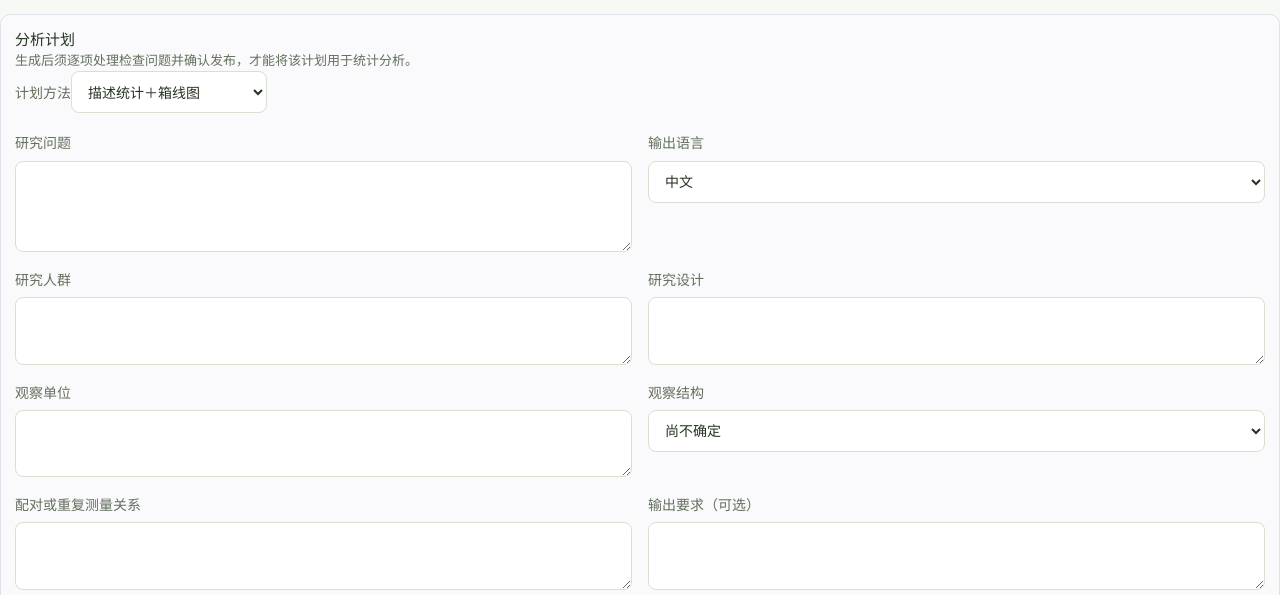
same-looking numeric and textual groups remain separately identifiable in the local selector
Select "Welch t" in the dropdown labelled "计划方法". click: [169, 92]
box: [71,71,267,113]
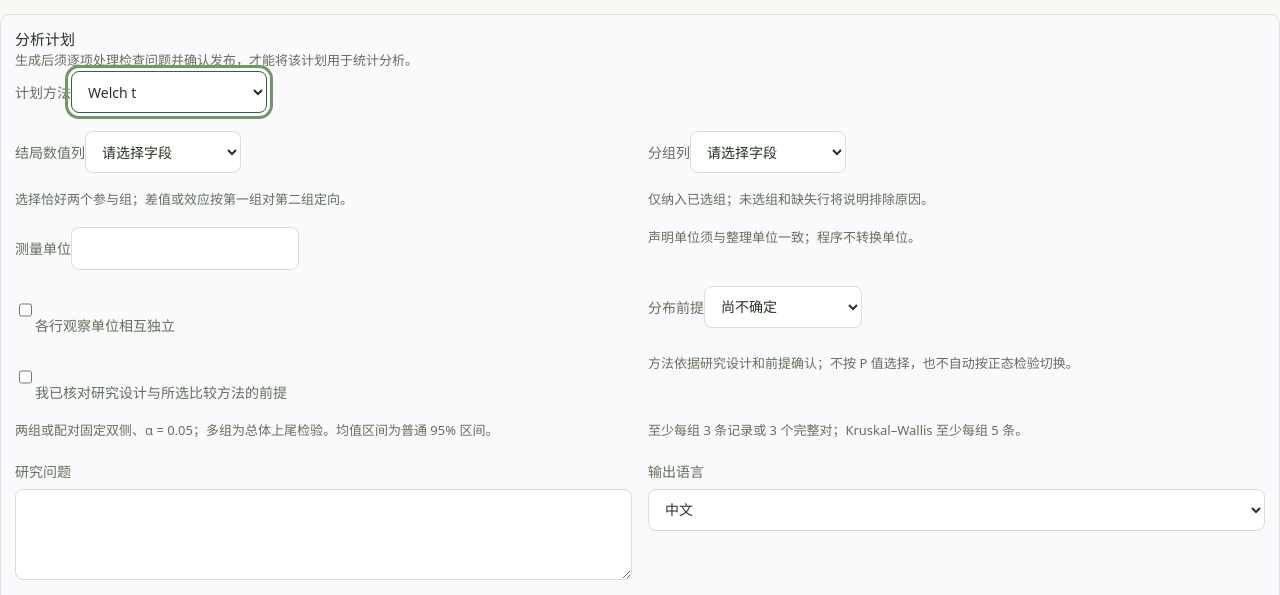
Select "C · Outcome" in the dropdown labelled "结局数值列". click: [163, 152]
box: [85,131,241,173]
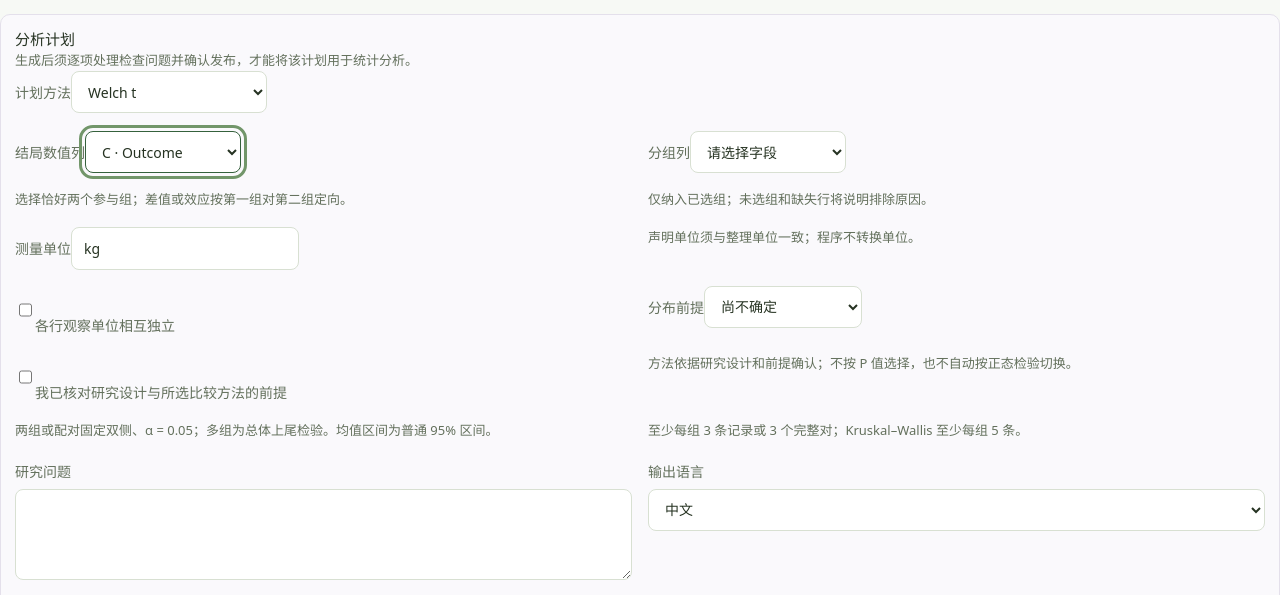
Select "D · Group" in the dropdown labelled "分组列". click: [768, 152]
box: [690,131,846,173]
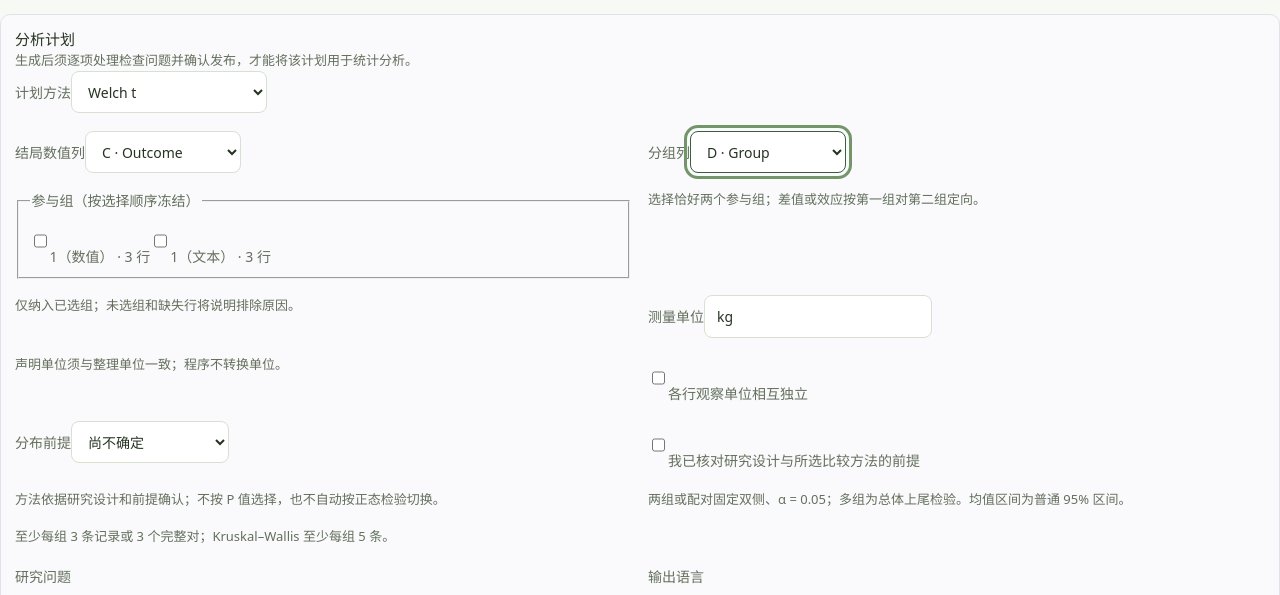
expect the checkbox named "纳入 1（数值）（3 行）" is shown: met, box [34,220,46,262]
expect the checkbox named "纳入 1（文本）（3 行）" is shown: met, box [154,220,167,262]
